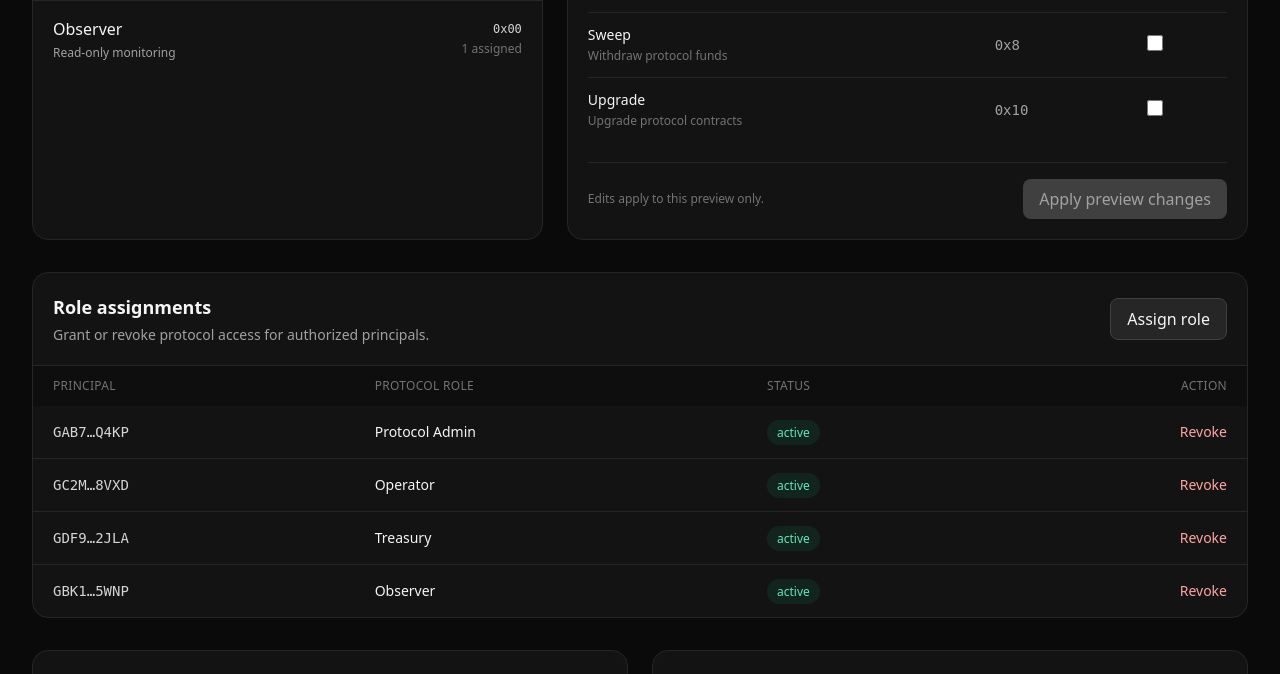
Test: RbacDashboard › assigns and revokes a role while recording both changes
(page scrolled)
Click the button "Assign role". click: x=1169, y=319
box: [1110,298,1227,340]
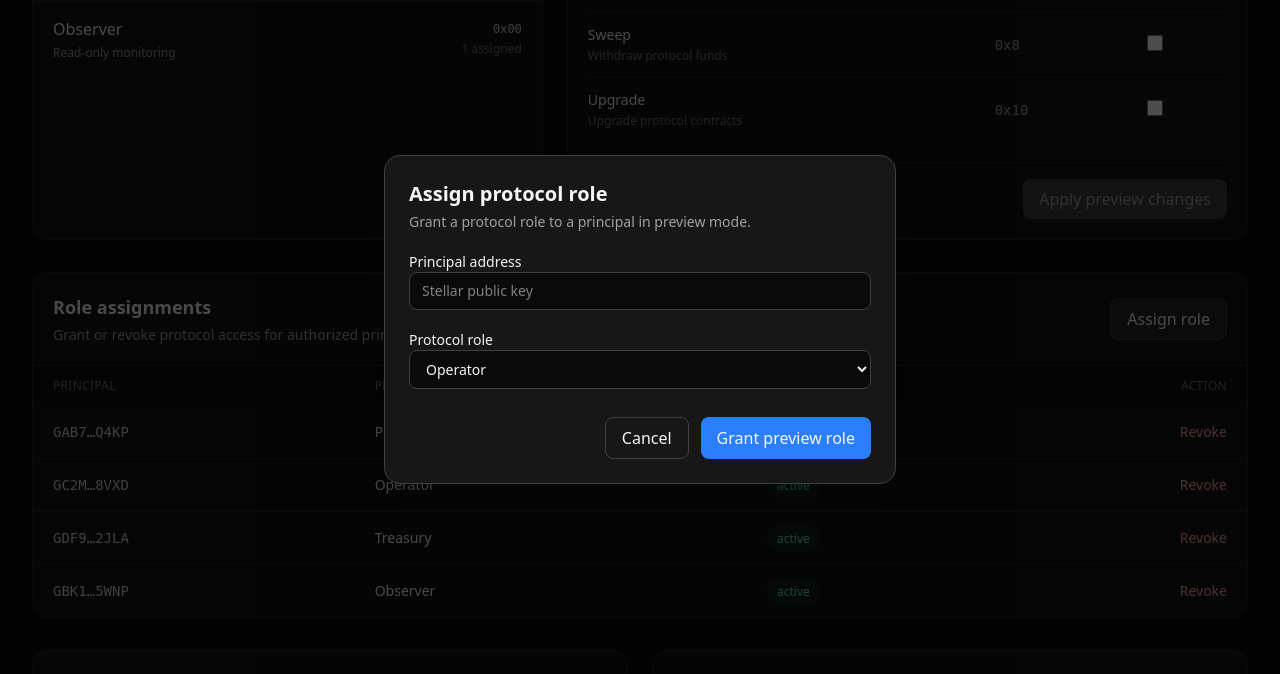
Type "GNEW…ADDR" into the field labelled "Principal address". click: x=640, y=290
box: [409,272,871,310]
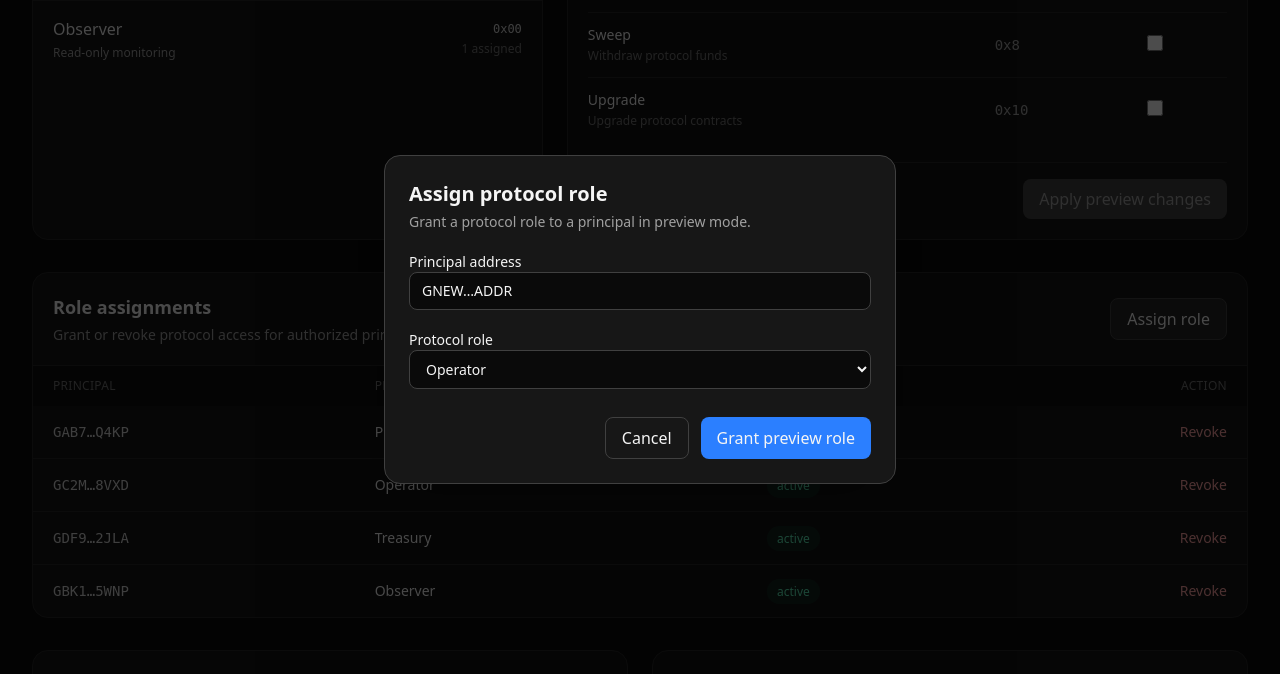
Click the button "Grant preview role". click: x=786, y=438
box: [701,416,871,458]
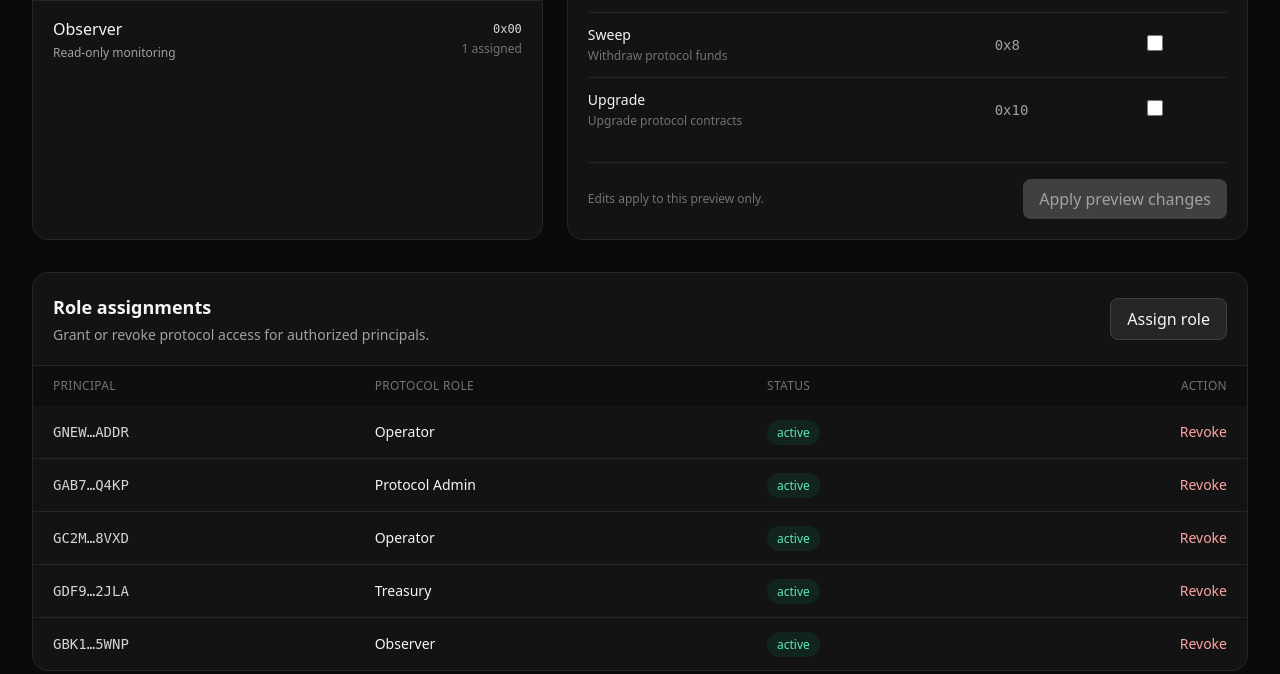
Result: the text "GNEW…ADDR" is shown at [53,424,129,440]
Result: the 1st text "Operator" is shown at [355,406,747,458]
Result: the 1st text "active" is shown at [767,420,820,445]
Click the button with aria-label "Revoke role from GNEW…ADDR". click: x=1203, y=432
box: [1180,422,1227,442]
(page scrolled)
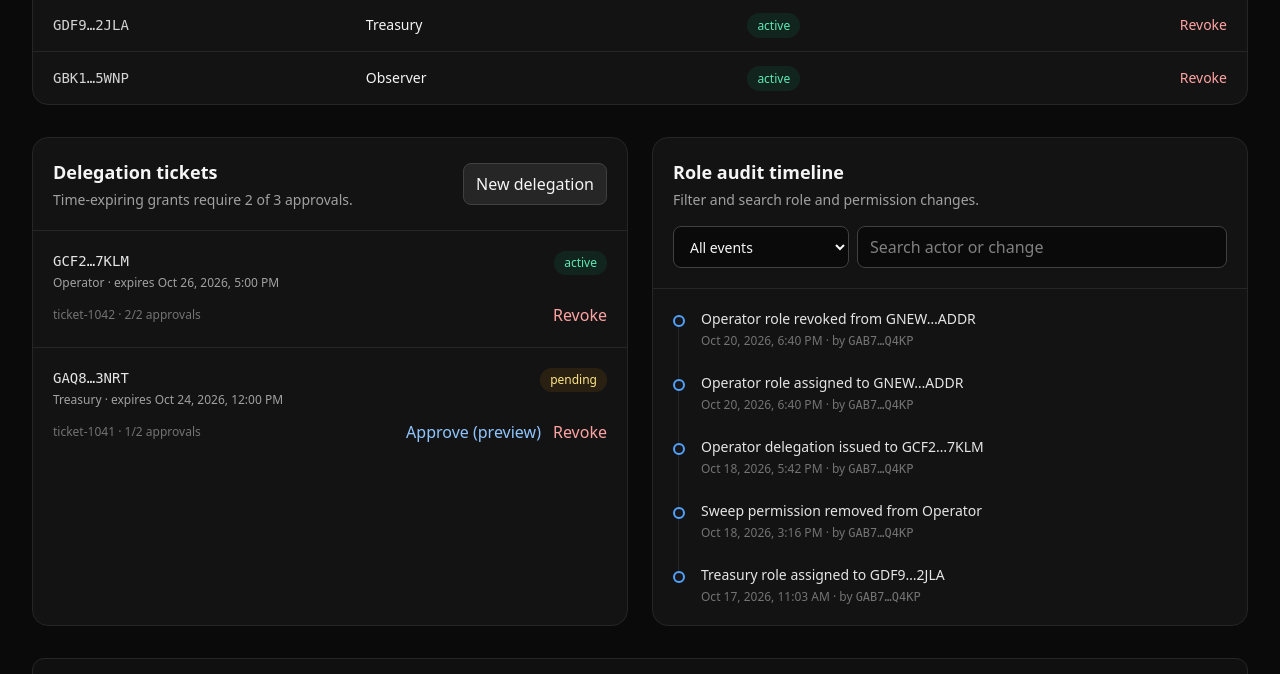
Result: the text "Operator role revoked from GNEW…ADDR" is shown at [701,309,976,329]
